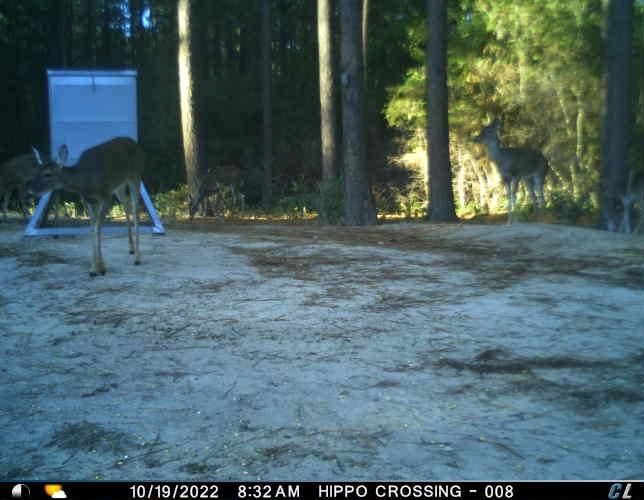Deer: (23, 137, 150, 279), (473, 116, 551, 219), (184, 160, 249, 219), (0, 146, 46, 223), (605, 166, 644, 241)
